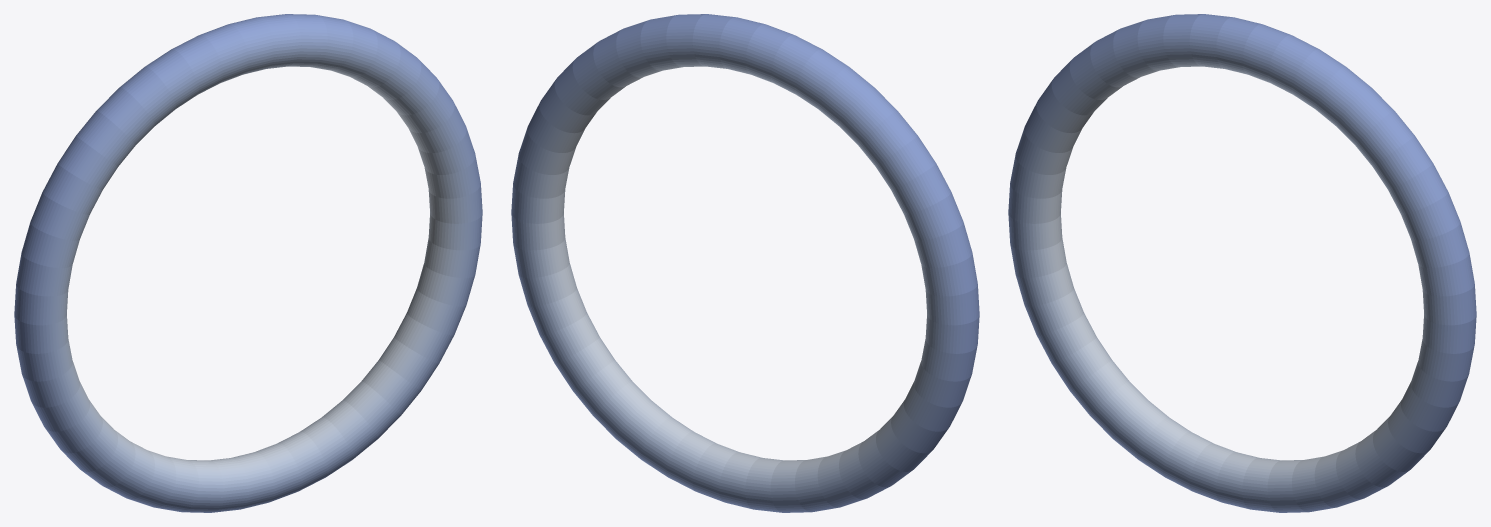
3 renders of one model, left to right at view 1: azimuth 30°, elevation 25°; view 2: azimuth 150°, elevation 25°; view 3: azimuth 330°, elevation 25°, orthographic.
Parts seen in each view (by area): view 1: world; view 2: world; view 3: world.
Part boxes in pixels (x1,y1,x2,y2): world: [14, 14, 482, 512]; world: [511, 14, 979, 512]; world: [1008, 14, 1476, 512].
Size of the model in its own units: 31.07 by 31.01 by 3.06.
